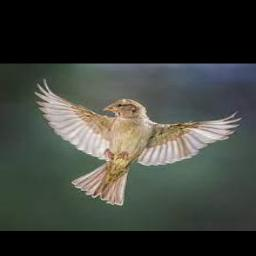Sparrow: (34, 79, 242, 205)
